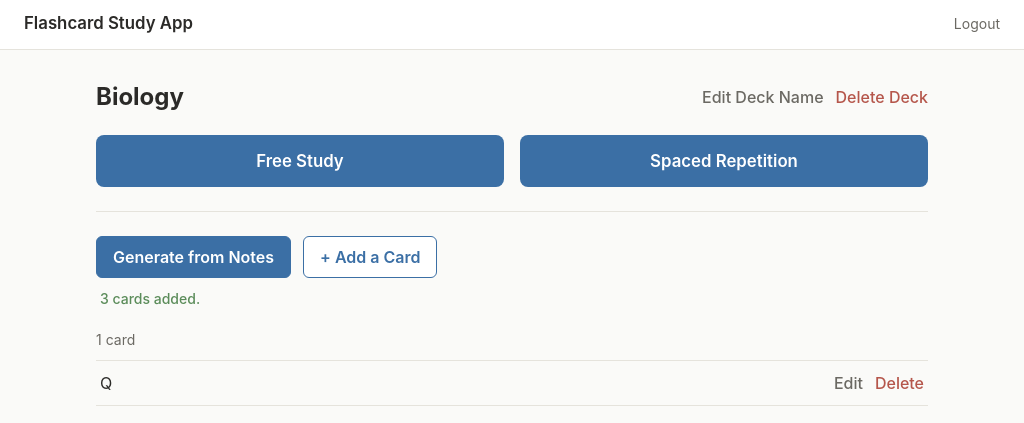
Test: DeckDetailPage › clears the added-cards message on deleting a card
Check: the text "3 cards added." is shown, box top-left (100, 290), bottom-right (200, 307)
What coordinates should you click on to do the following:
click the button "Delete"
I would click on:
 (899, 383)
Its box is top-left (875, 373), bottom-right (924, 393).
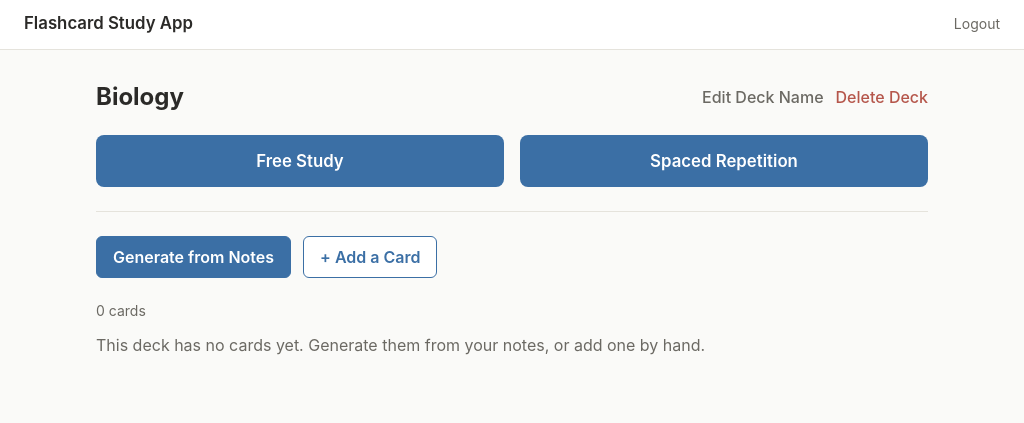
Check: the text "3 cards added." is gone
